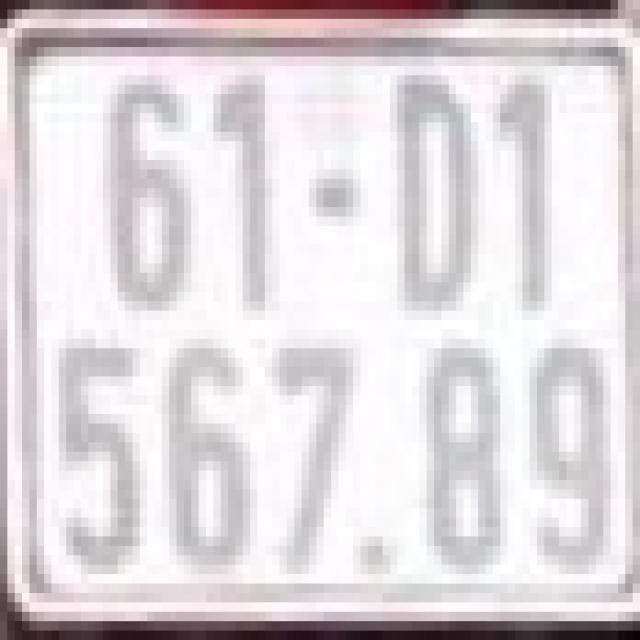1: (213, 66, 280, 310), (493, 75, 552, 311)
5: (51, 338, 148, 574)
6: (102, 75, 192, 311), (162, 339, 250, 565)
7: (272, 338, 353, 574)
8: (427, 339, 508, 565)
9: (530, 339, 610, 565)
D: (390, 75, 471, 311)
